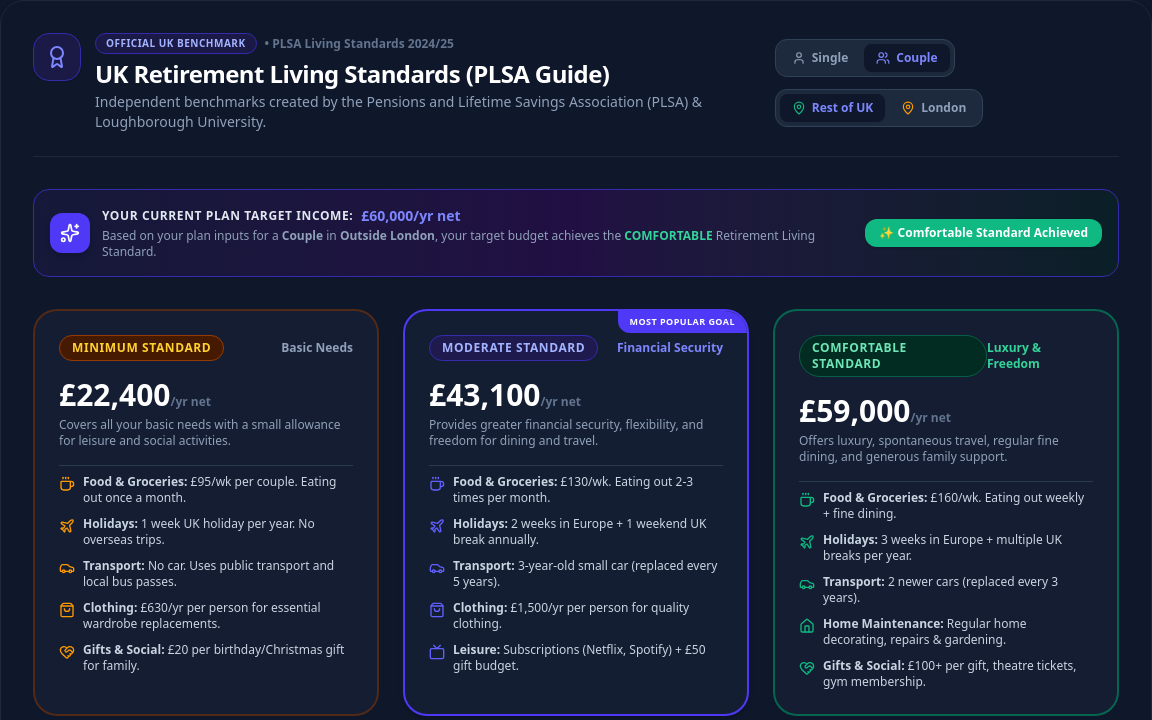
Scenario: RetirementLivingStandardsCard › defaults to couple when isCouplePlanning is true and updates when toggling location
Expected: the text "£22,400" is shown, [59,374,170,415]
Expected: the text "£59,000" is shown, [799,390,910,431]
Switch location to London
Click the button "London" at (934, 108), box [889,94,978,122]
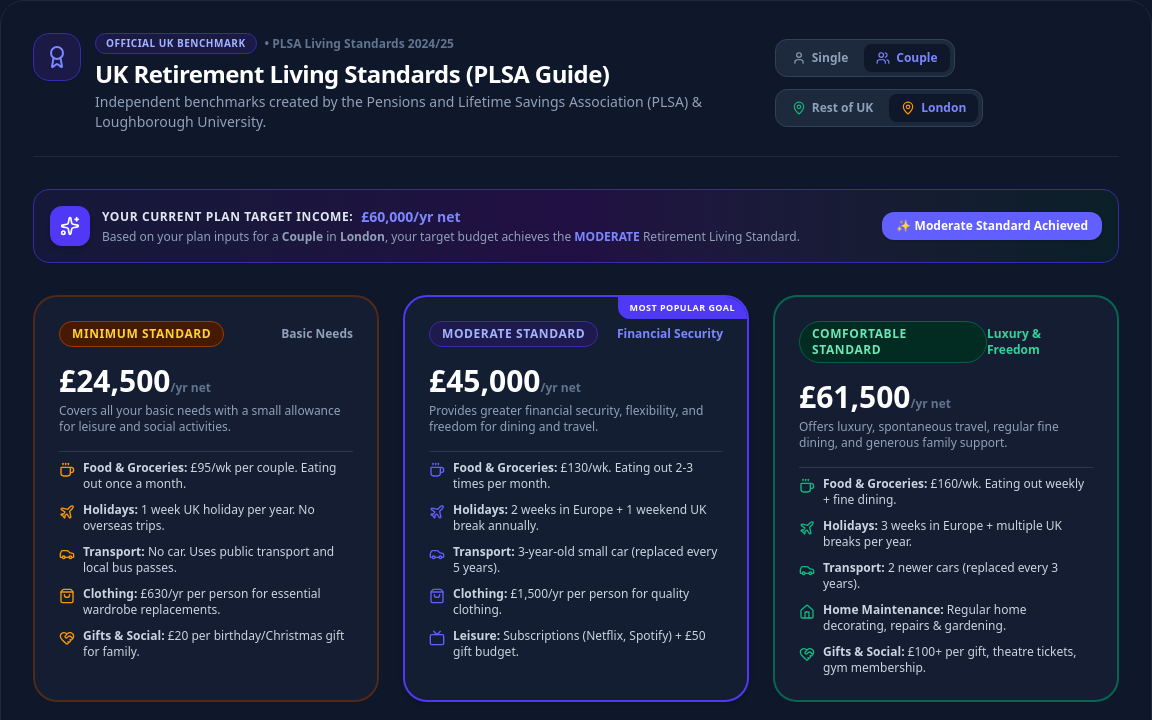
Result: the text "£24,500" is shown at [59,360,170,401]
Result: the text "£45,000" is shown at [429,360,540,401]
Result: the text "£61,500" is shown at [799,376,910,417]
Switch back to Rest of UK
Click the button "Rest of UK" at (832, 108), box [780,94,885,122]
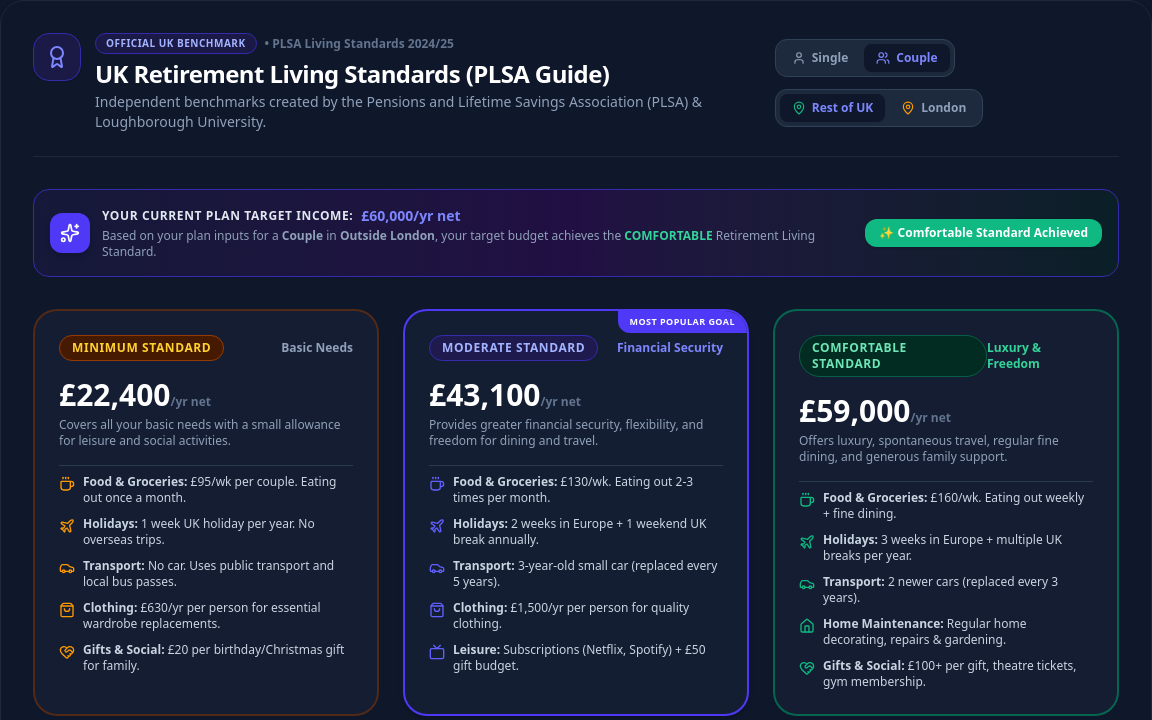
Result: the text "£22,400" is shown at [59,374,170,415]
